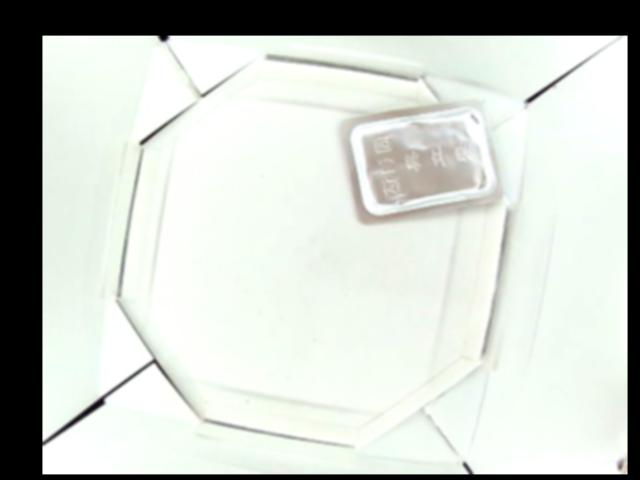Medicine: (336, 96, 499, 223)
